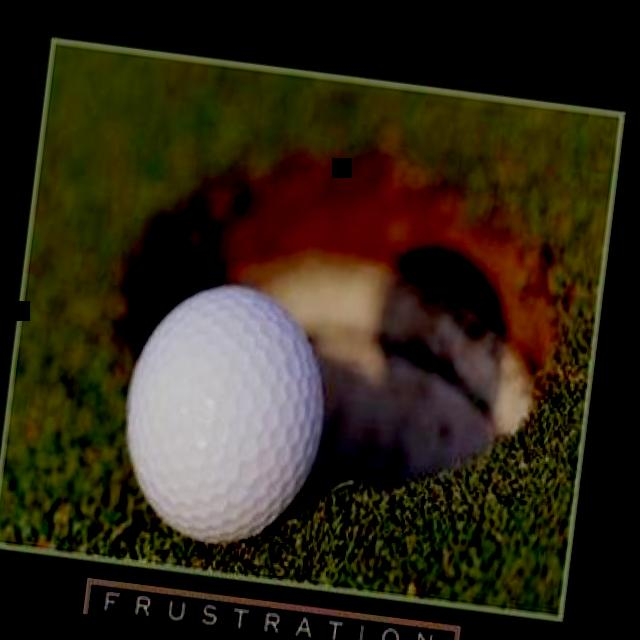golf ball: (102, 263, 344, 571)
